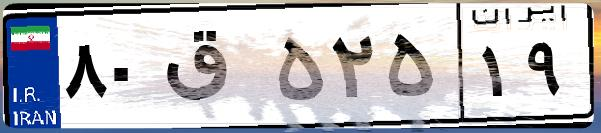0: (110, 28, 158, 98)
1: (475, 38, 525, 113)
2: (330, 28, 385, 110)
5: (270, 28, 330, 110), (385, 28, 445, 110)
8: (57, 26, 110, 100)
9: (525, 38, 570, 115)
ق: (158, 20, 270, 120)
